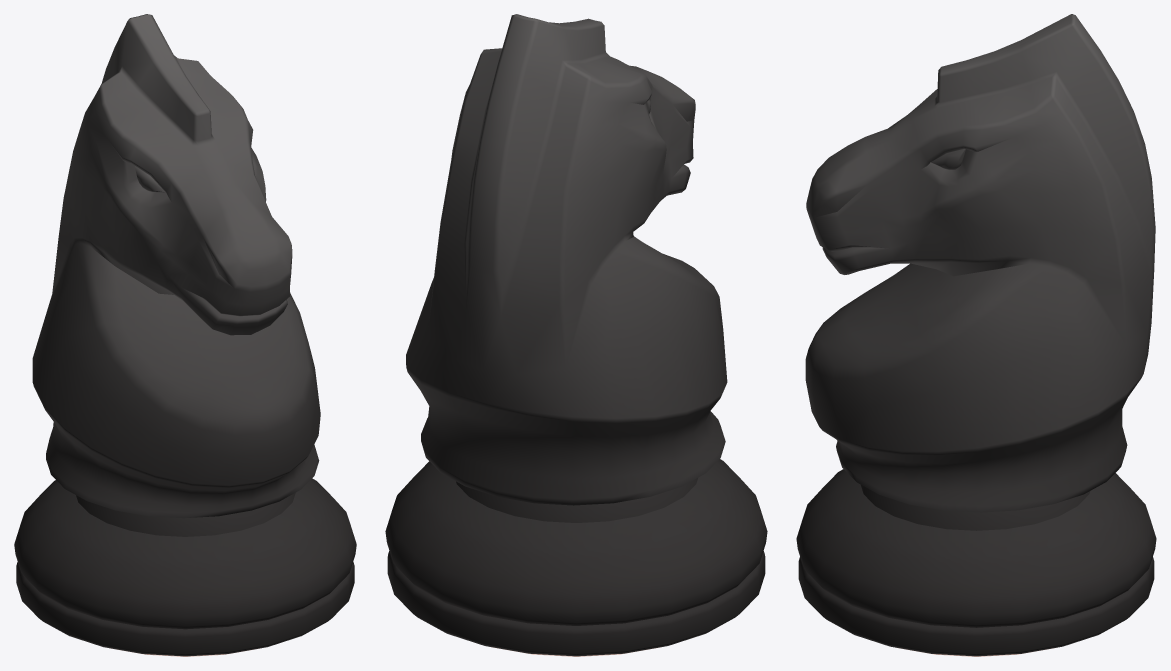
File: Chess_Black_Hoss_01.glb
3 views of the same model, side by side, from view 1: azimuth 30°, elevation 25°; view 2: azimuth 150°, elevation 25°; view 3: azimuth 270°, elevation 25° (orthographic). The views are drawn at different scales.
Parts seen in each view (by area): view 1: Chess_Black_Hoss_01; view 2: Chess_Black_Hoss_01; view 3: Chess_Black_Hoss_01.
Part boxes in pixels (box(x1,y1,x2,y2)): Chess_Black_Hoss_01: box(14, 14, 356, 656); Chess_Black_Hoss_01: box(385, 14, 767, 656); Chess_Black_Hoss_01: box(796, 14, 1156, 656).
Size of the model in its own units: 0.0368 by 0.0644 by 0.0368.
2 materials, 2 textured.
